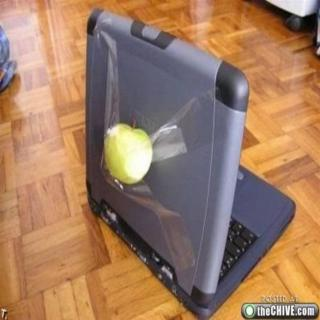Apple: (106, 124, 158, 194)
